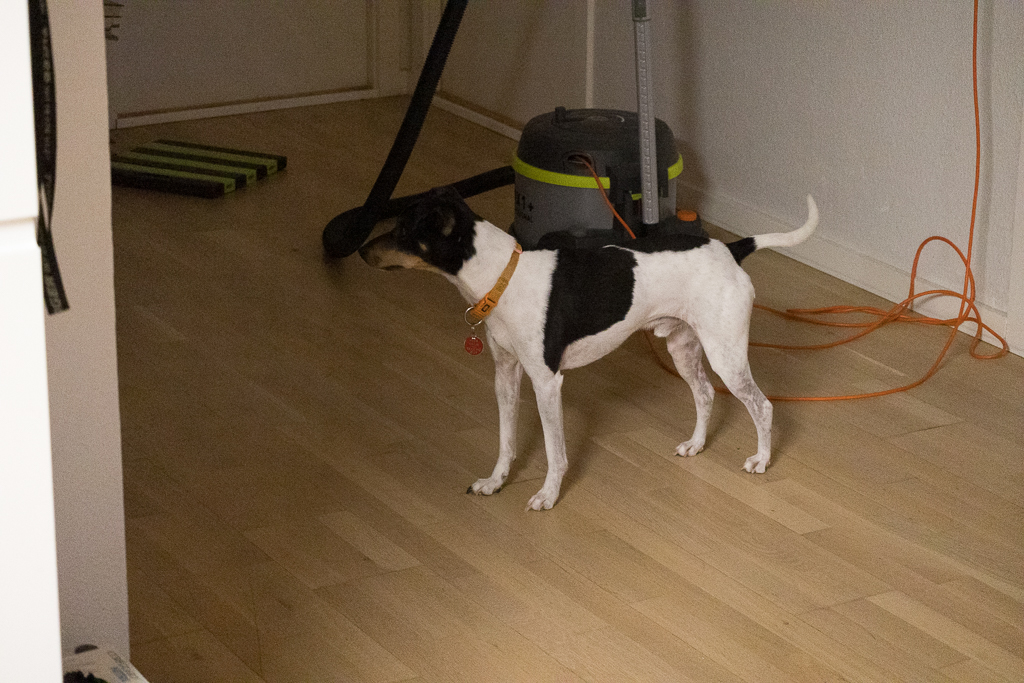Dog: (344, 179, 838, 511)
